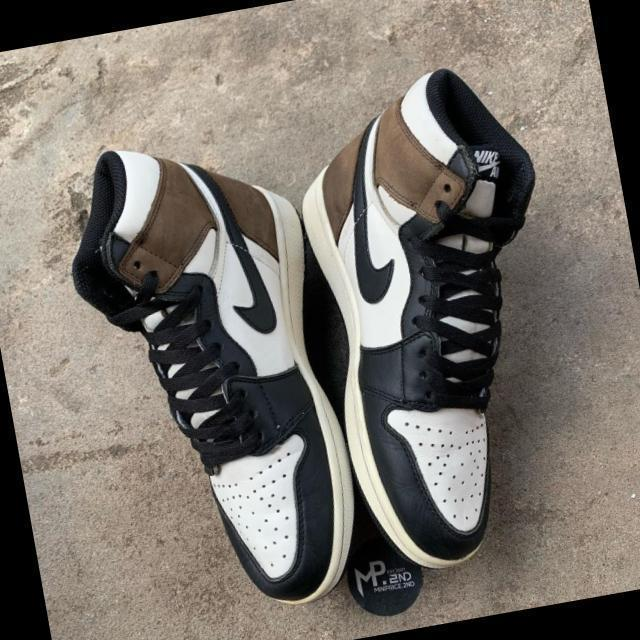nike original jordan 1: (282, 53, 610, 592), (44, 120, 366, 638)
